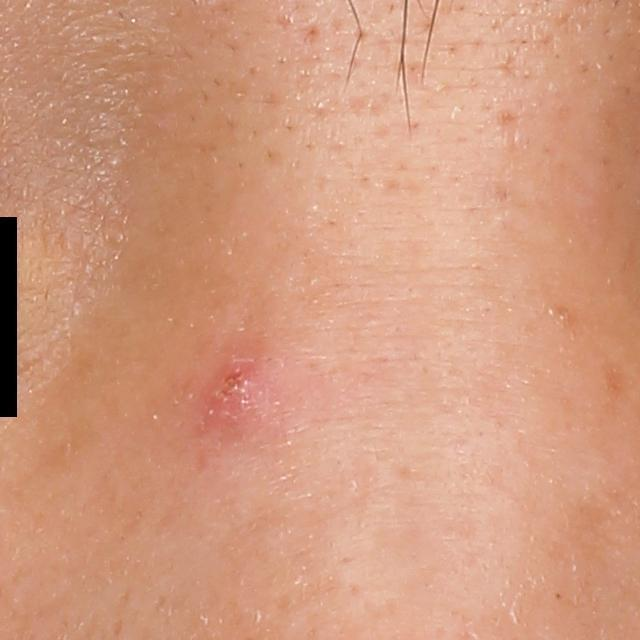papule: (204, 349, 282, 430)
